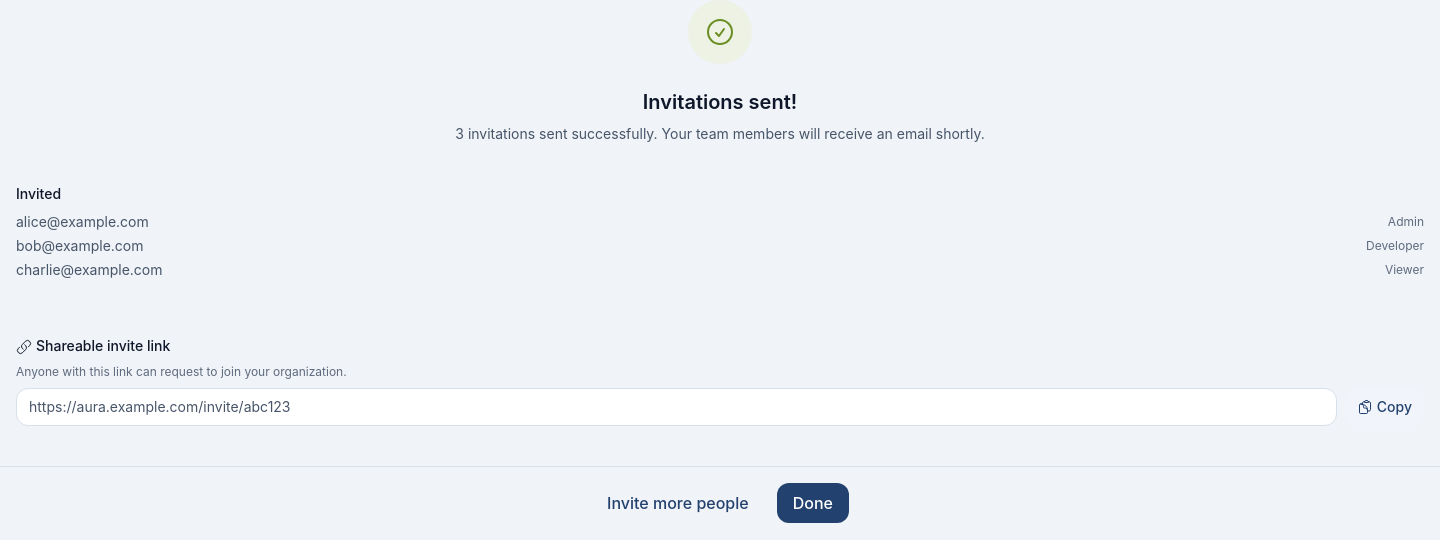
InviteCompletionStep › Multiple Copy Clicks › each click creates independent timeout
What coordinates should you click on to do the following:
click the button "Copy"
I would click on:
 (1384, 407)
Its box is [1345,389,1424,425].
Wait 1500 ms
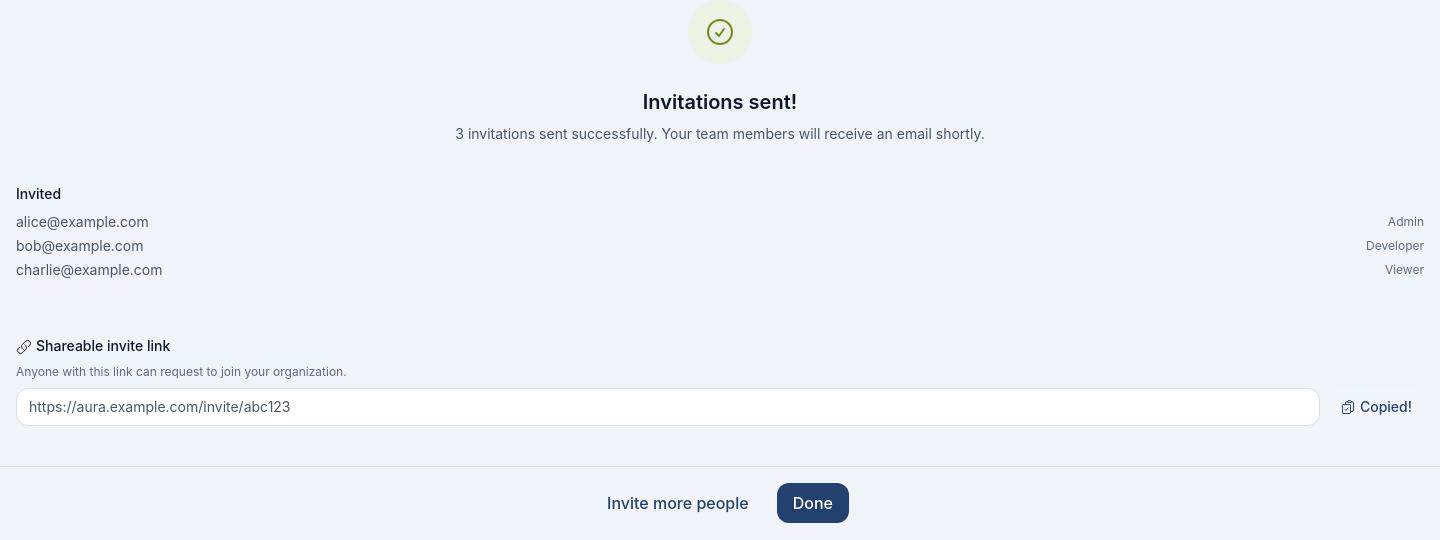
Result: the button "Copied!" is shown
// Click again while still showing "Copied!"
What coordinates should you click on to do the following:
click the button "Copied!"
I would click on:
 (1376, 407)
Its box is [1328,389,1424,425].
Wait 500 ms
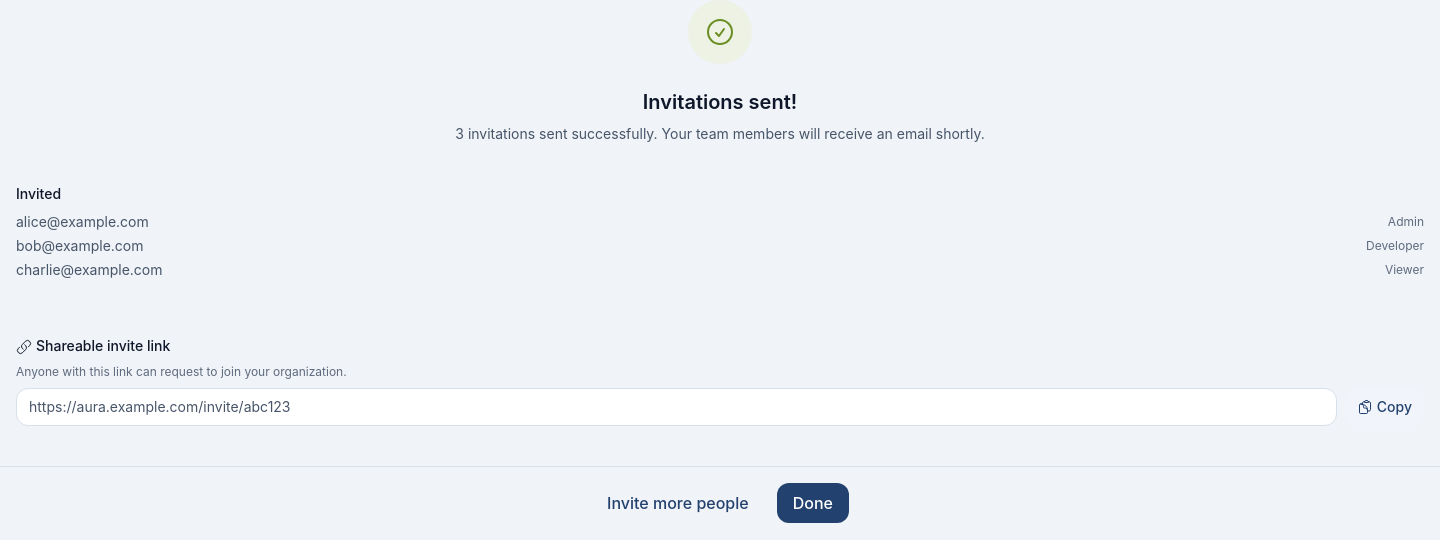
Result: the button "Copy" is shown at [1345,389,1424,425]
